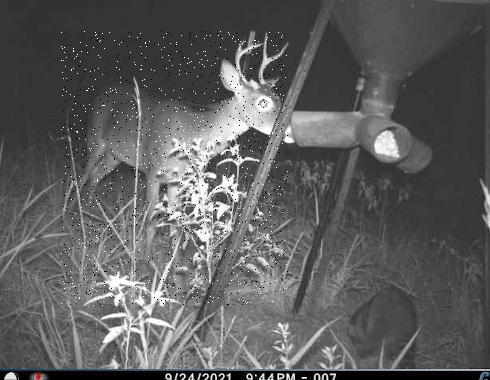Deer: (61, 31, 288, 306)
